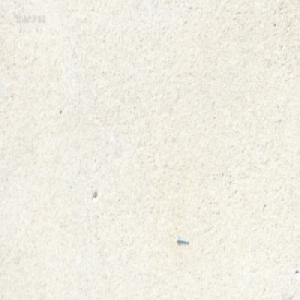Nail: (176, 235, 189, 244)
